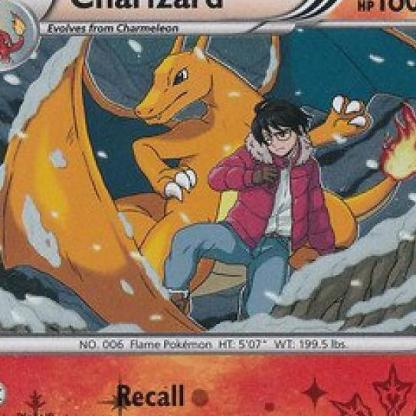Charizard: (1, 41, 391, 321)
